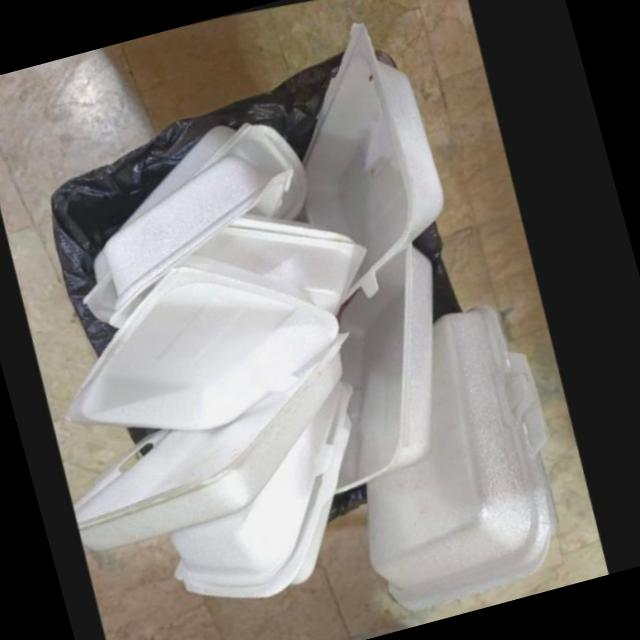xop: (78, 324, 354, 547), (372, 293, 566, 601), (69, 248, 343, 426), (303, 13, 446, 291), (176, 371, 357, 590), (106, 148, 295, 322), (341, 234, 437, 484), (123, 115, 309, 224), (195, 207, 370, 304), (87, 245, 121, 318)
